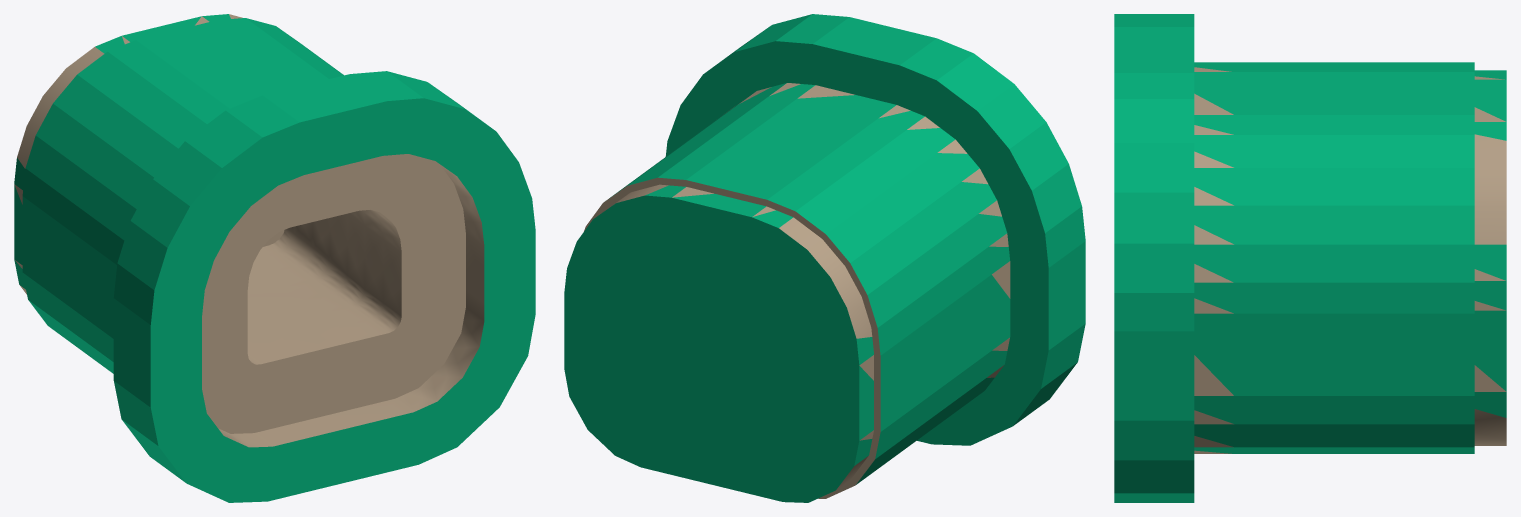
File: TT_P_End.fbx
3 views of the same model, side by side, from view 1: azimuth 30°, elevation 25°; view 2: azimuth 150°, elevation 25°; view 3: azimuth 270°, elevation 25° (orthographic). The views are drawn at different scales.
Parts seen in each view (by area): view 1: TT_P_End_LOD0; view 2: TT_P_End_LOD0; view 3: TT_P_End_LOD0.
Part boxes in pixels (box(x1,y1,x2,y2)): TT_P_End_LOD0: box(14, 14, 535, 502); TT_P_End_LOD0: box(564, 14, 1085, 502); TT_P_End_LOD0: box(1114, 14, 1506, 502).
Bounding box in the file's own units: 300 × 277 × 245.
